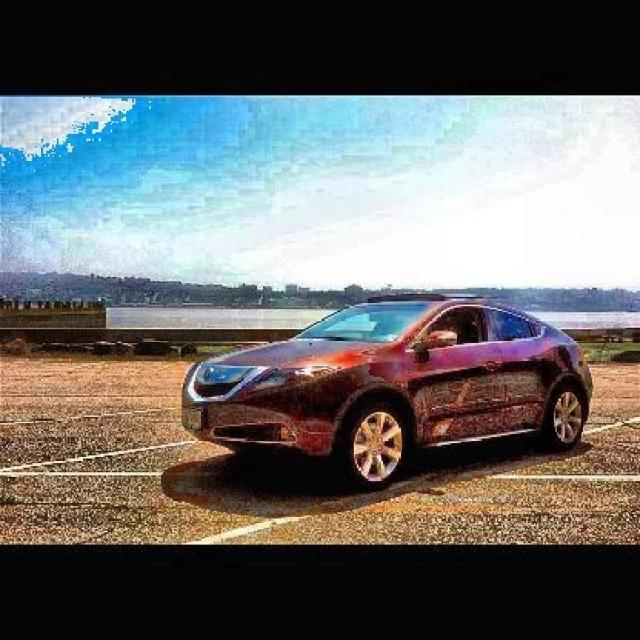maroon: (161, 274, 605, 480)
